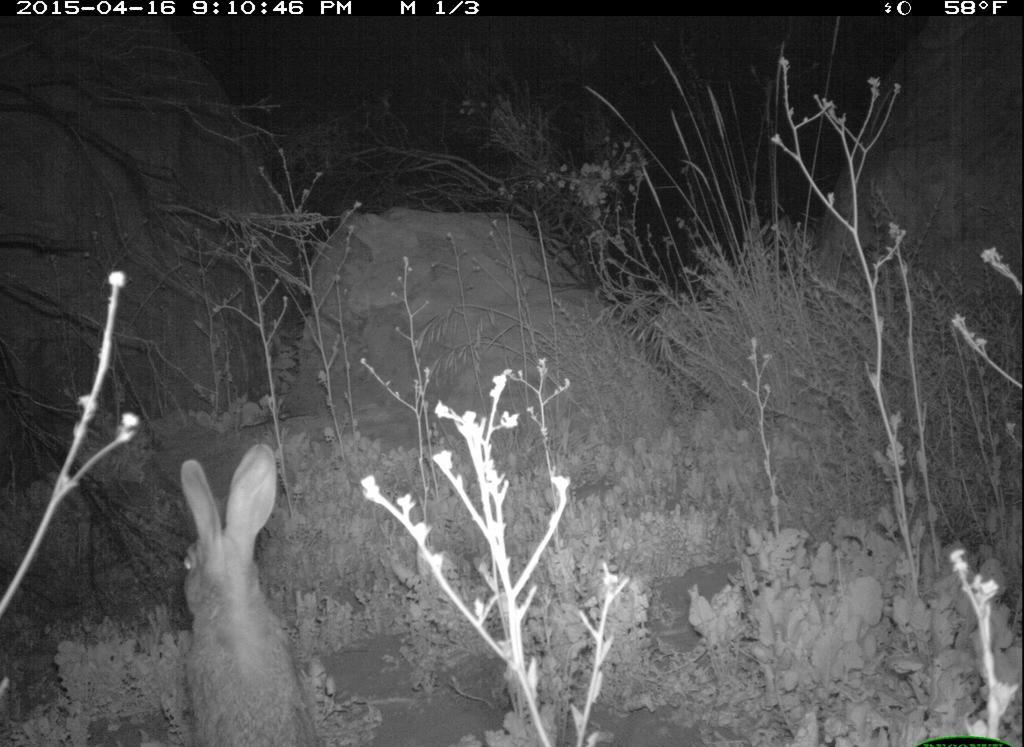rabbit: (154, 437, 340, 747)
